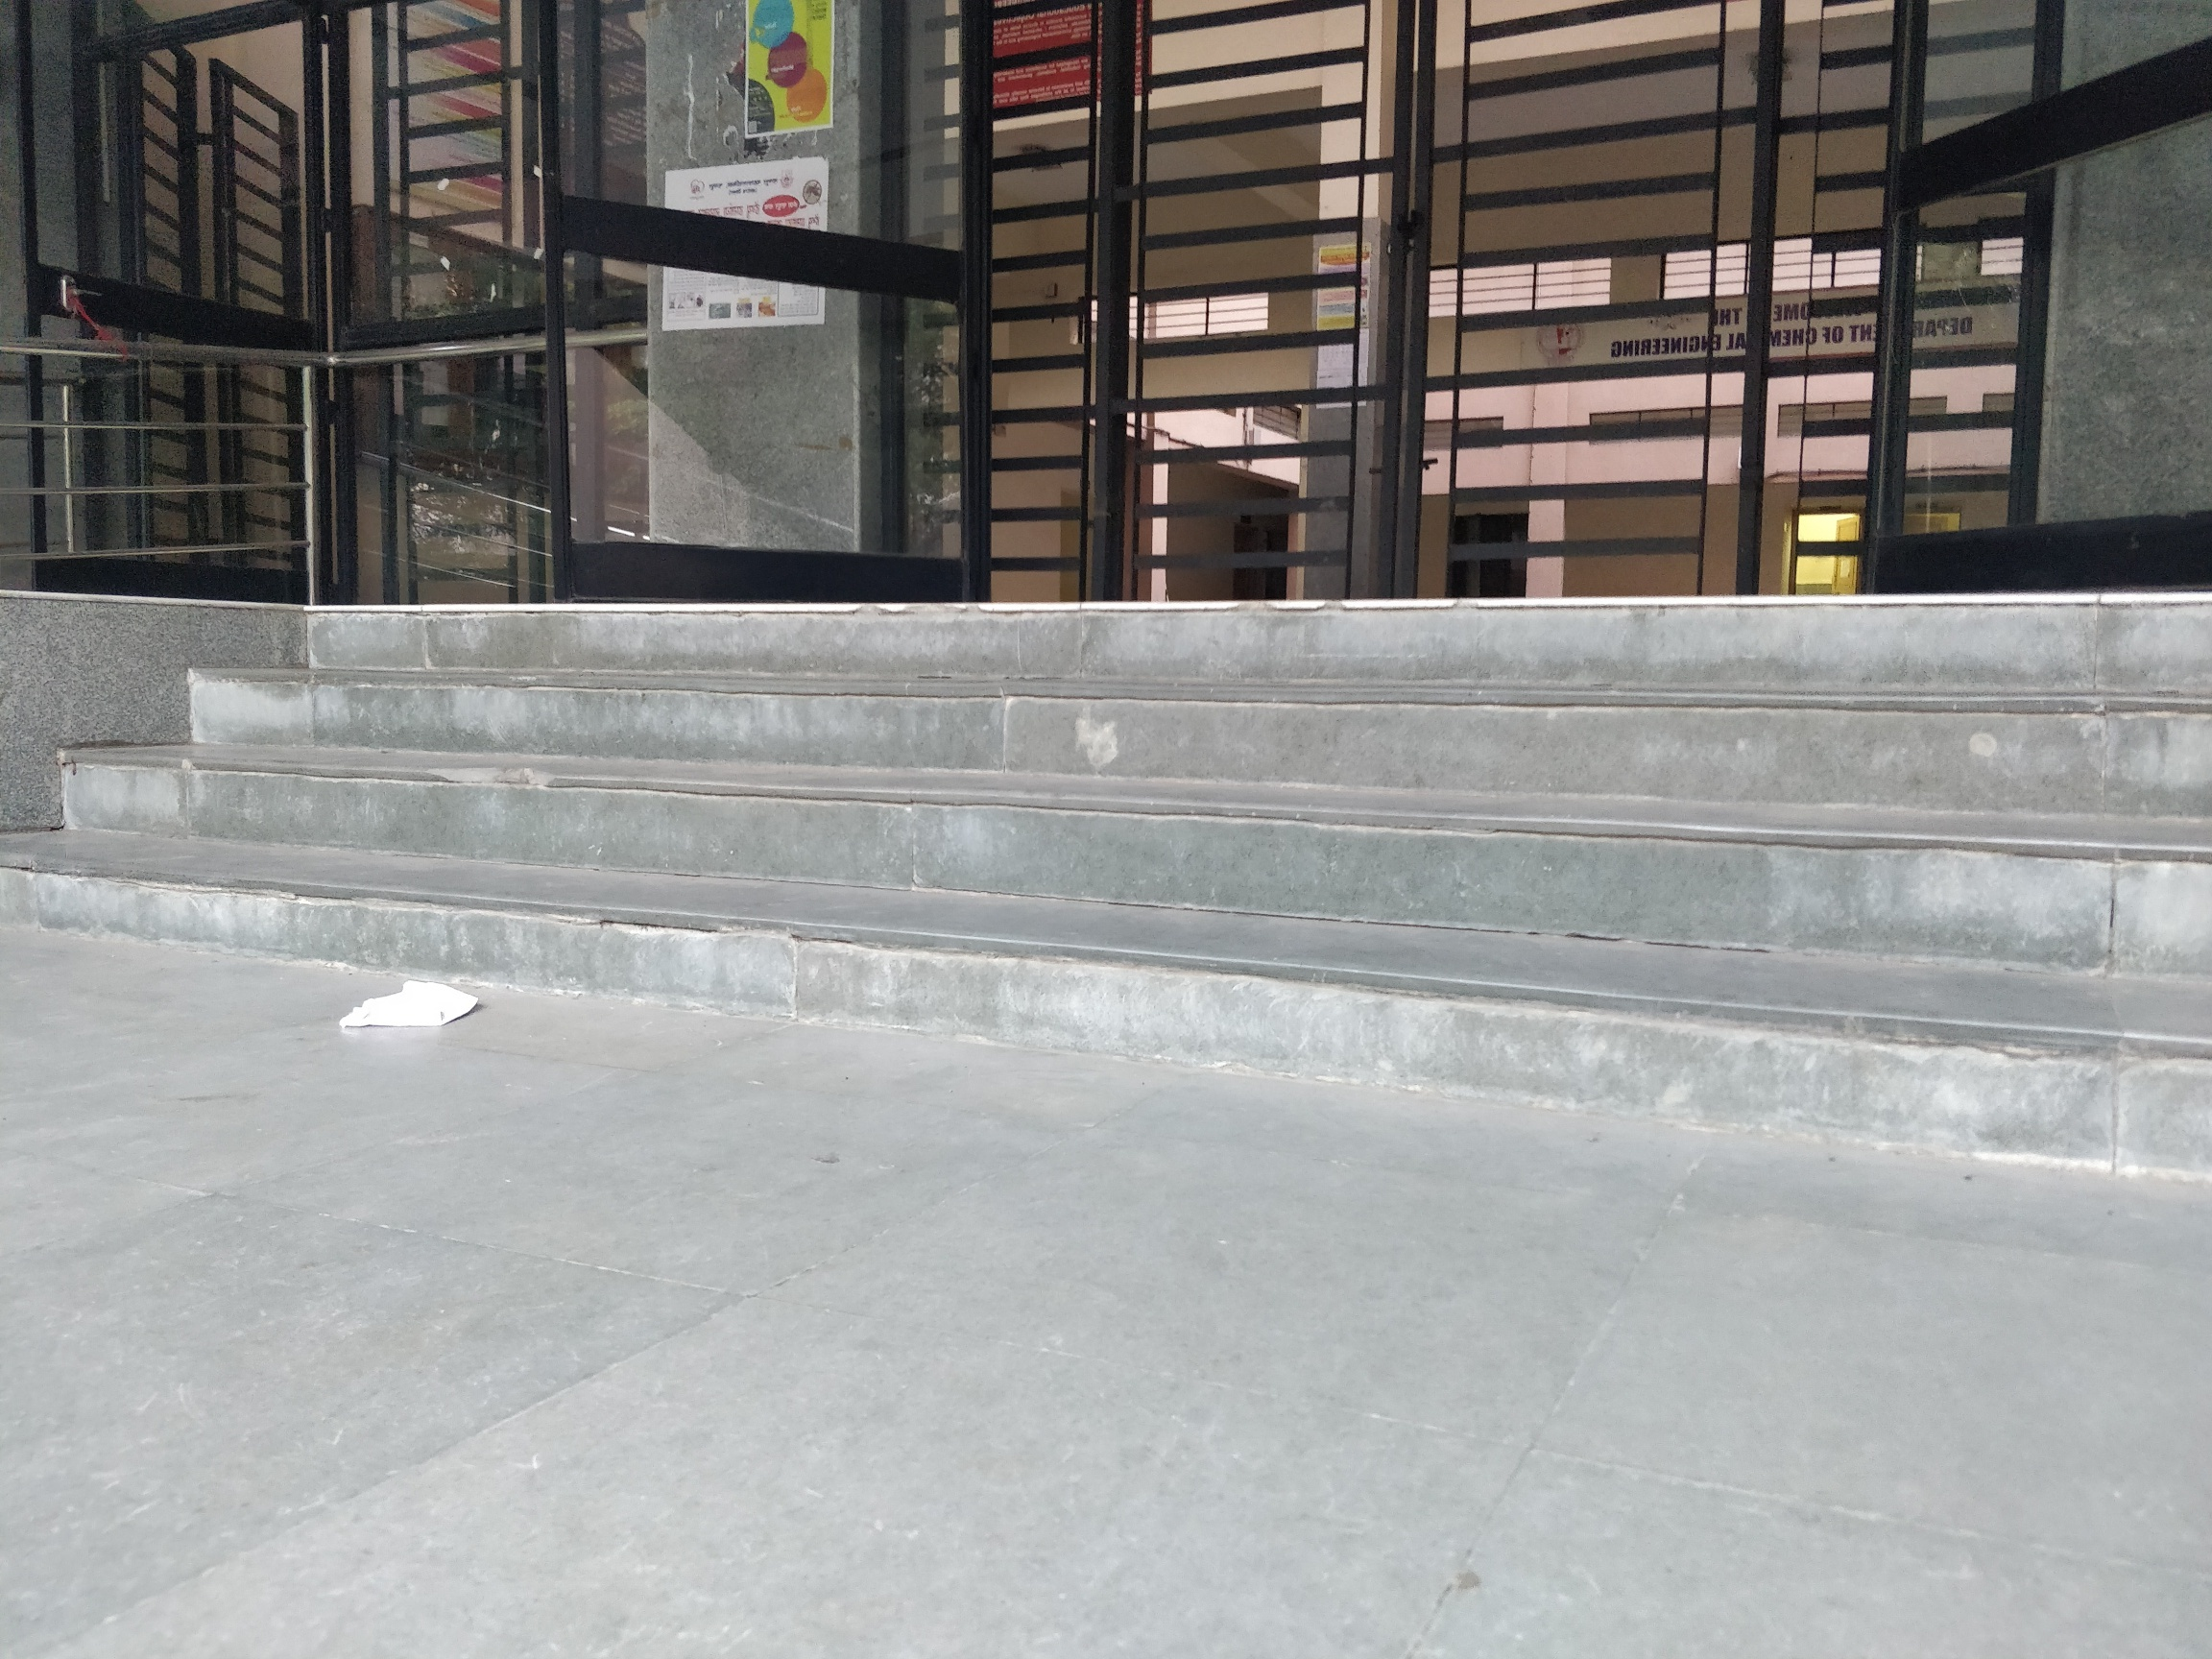stairs_up: (434, 565, 2212, 1244)
